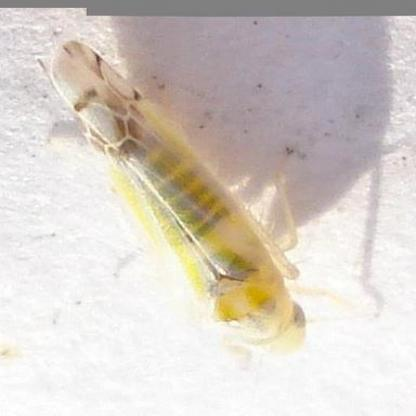green-leafhopper: (37, 37, 363, 363)
